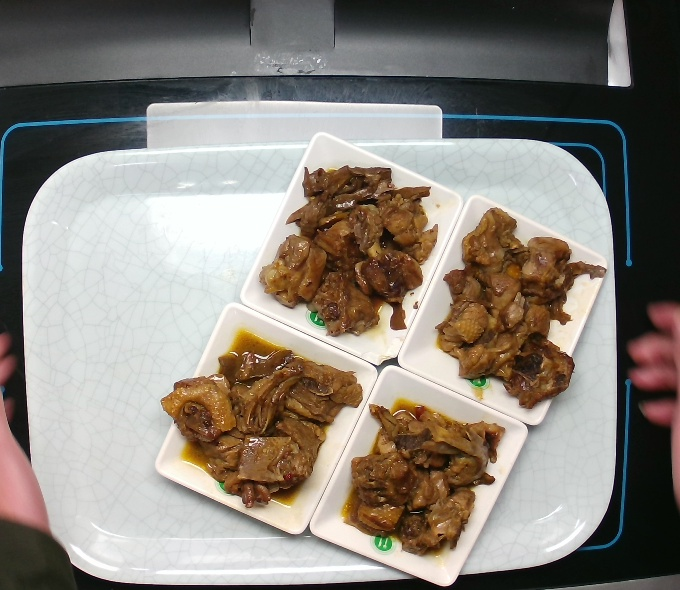wcq-HongShaoJi: (157, 327, 370, 521), (436, 196, 618, 416), (254, 145, 445, 343), (343, 377, 512, 564)
